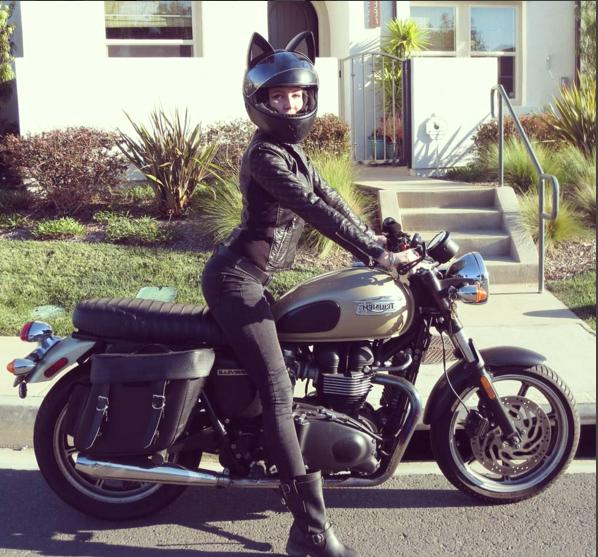With Helmet: (243, 29, 321, 138)
